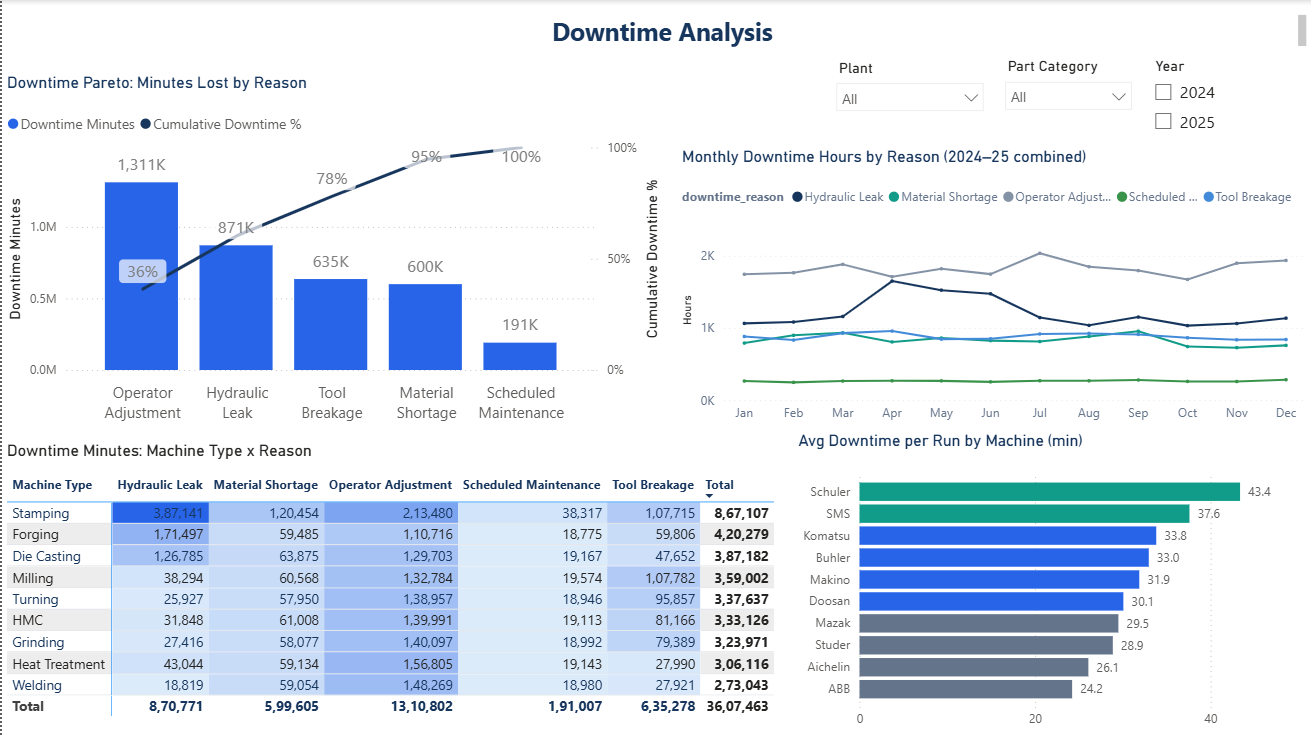

This screenshot's page, from the dashboard's own definition file:
{"tool":"powerbi","page":{"name":"Downtime Analysis","canvas":[1280,720],"ordinal":1},"visuals":[{"type":"lineClusteredColumnComboChart","title":"Downtime Pareto: Minutes Lost by Reason","fields":{"Category":["fact_production_runs.downtime_reason"],"Y":["Measures (2).Downtime Minutes"],"Y2":["Measures (2).Cumulative Downtime %"]},"box":[0,72.7,649.1,348.5],"z":0},{"type":"pivotTable","title":"Downtime Minutes: Machine Type x Reason","fields":{"Columns":["fact_production_runs.downtime_reason"],"Rows":["dim_machines.operation_type"],"Values":["Measures (2).Downtime Minutes"]},"box":[0,432.2,761.6,288.2],"z":1000},{"type":"barChart","title":"Avg Downtime per Run by Machine (min)","fields":{"Category":["dim_machines.Machine Short"],"Y":["Measures (2).Avg Downtime per Run"]},"box":[773.9,421.3,506.3,299.1],"z":2000},{"type":"lineChart","title":"Monthly Downtime Hours by Reason (2024–25 combined)","fields":{"Category":["dim_date.Month Short"],"Series":["fact_production_runs.downtime_reason"],"Y":["Measures (2).Downtime Hours"]},"box":[660,144.1,620.2,277.2],"z":3000},{"type":"slicer","fields":{"Values":["dim_date.year"]},"box":[1115.6,50.8,164.7,91.9],"z":4000},{"type":"slicer","fields":{"Values":["dim_plants.plant_name"]},"box":[805.5,52.1,164.7,67.2],"z":5000},{"type":"slicer","fields":{"Values":["dim_parts.category"]},"box":[971.5,50.8,144.1,70],"z":6000},{"type":"textbox","box":[17.8,9.6,1262.4,41.2],"z":7000}]}

Visuals, with their boxes in screenshot pixels (x1, y1, x2, y2), scaled from the page's 1280x720 canvas onto the 1311x735 screenshot:
"Downtime Pareto: Minutes Lost by Reason" lineClusteredColumnComboChart: x1=0, y1=74, x2=665, y2=430
"Downtime Minutes: Machine Type x Reason" pivotTable: x1=0, y1=441, x2=780, y2=734
"Avg Downtime per Run by Machine (min)" barChart: x1=793, y1=430, x2=1310, y2=734
"Monthly Downtime Hours by Reason (2024–25 combined)" lineChart: x1=676, y1=147, x2=1310, y2=430
slicer - dim_date.year: x1=1143, y1=52, x2=1310, y2=146
slicer - dim_plants.plant_name: x1=825, y1=53, x2=994, y2=122
slicer - dim_parts.category: x1=995, y1=52, x2=1143, y2=123
textbox: x1=18, y1=10, x2=1310, y2=52
